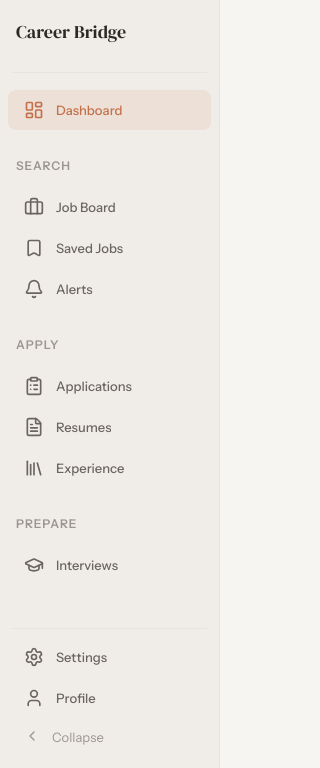
Test: Sidebar › expands when toggle is clicked again
First collapse
Click the button with aria-label "Collapse sidebar": x=110, y=737 [8, 719, 211, 755]
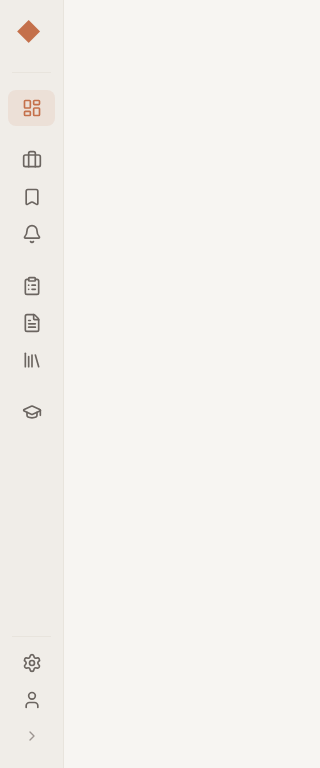
Then expand
Click the button named "Expand sidebar": x=32, y=737 [8, 719, 55, 755]
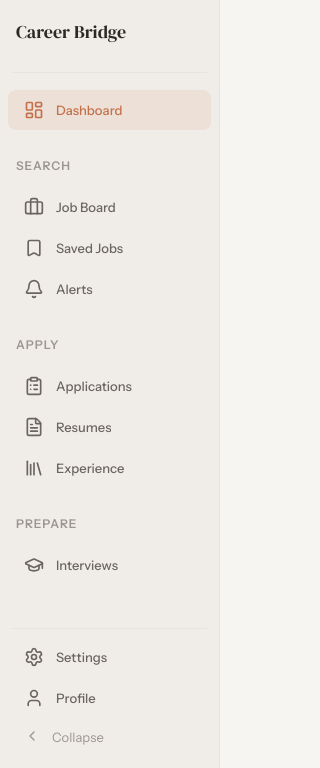
Expected: the button with aria-label "Collapse sidebar" is shown, [8, 719, 211, 755]
